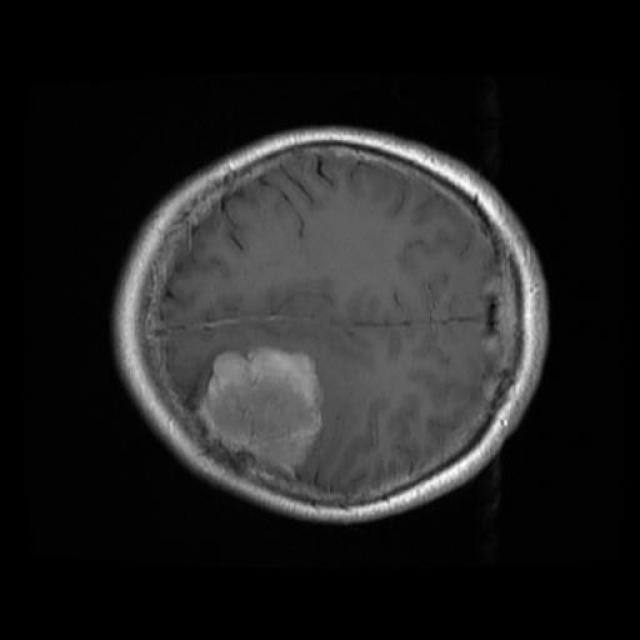Meningioma: (198, 347, 322, 474)
